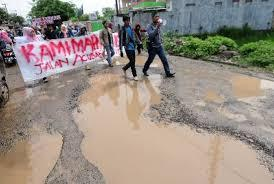Pothole: (64, 65, 274, 184), (0, 123, 71, 184), (124, 50, 151, 70)
